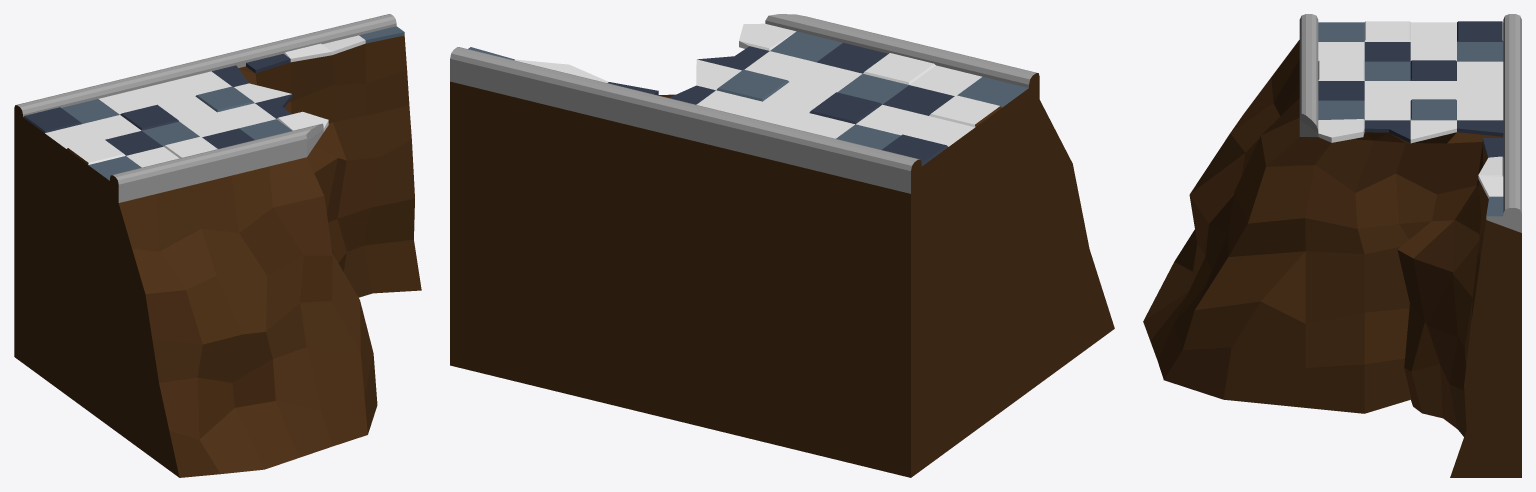
The model's file is road_stopB.fbx.
3 renders of one model, left to right at view 1: azimuth 30°, elevation 25°; view 2: azimuth 150°, elevation 25°; view 3: azimuth 270°, elevation 25°, orthographic. The views are drawn at different scales.
Visible parts, largest first — view 1: road_line_stopB; view 2: road_line_stopB; view 3: road_line_stopB.
Boxes of the visible parts, x1,y1,x2,y2 form: road_line_stopB: [14, 14, 421, 477]; road_line_stopB: [450, 14, 1114, 477]; road_line_stopB: [1143, 14, 1521, 477].
Bounding box in the file's own units: 496 × 322 × 409.
